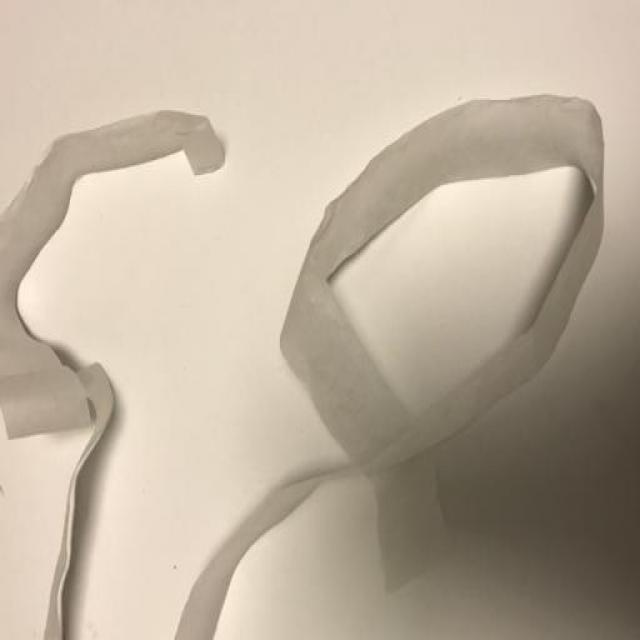Recycle: (11, 100, 608, 640)
